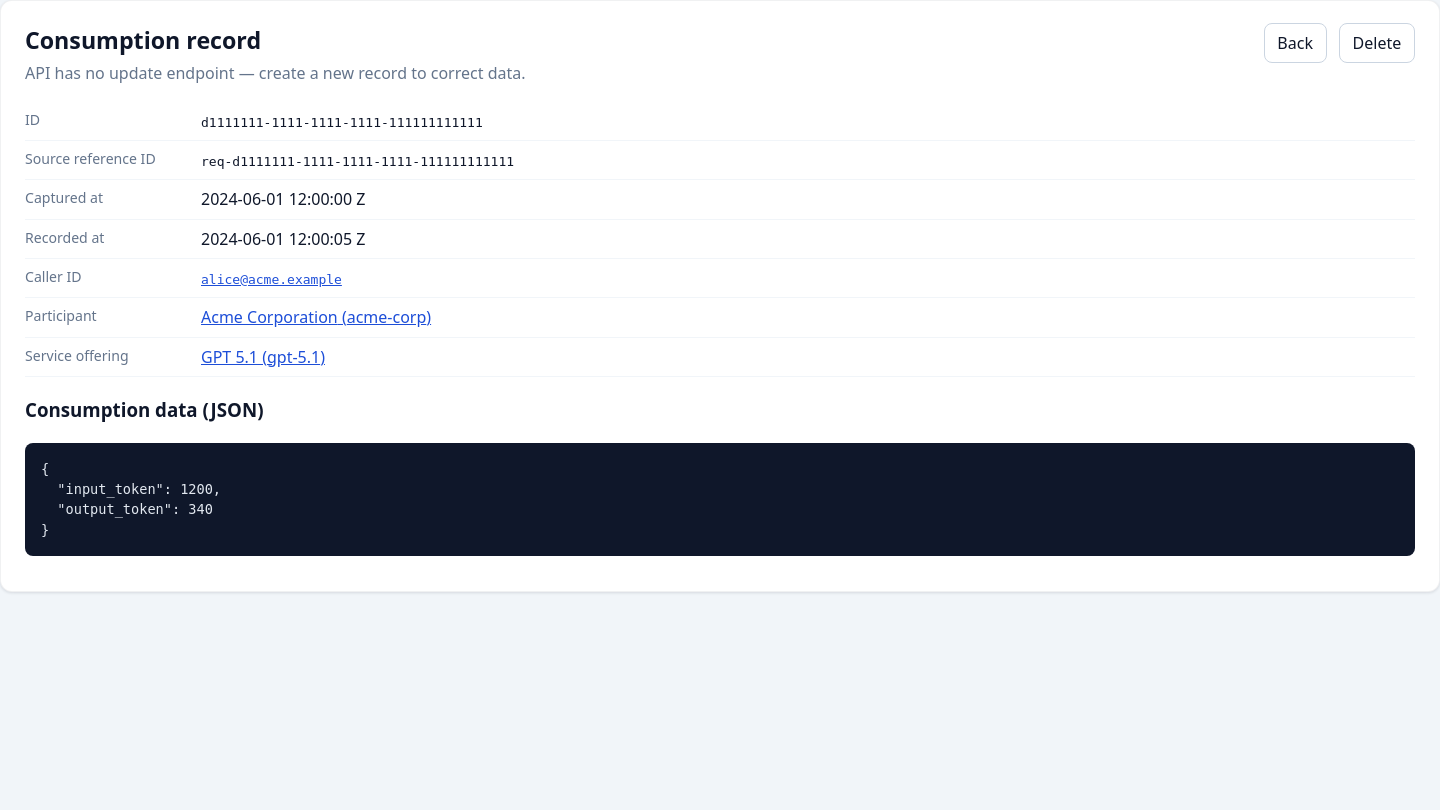
Consumption pages › shows detail and list delete errors
Expected: the text "{ \"input_token\": 1200, \"output_token\": 340 }" is shown, x1=25 y1=442 x2=1415 y2=556
Click the button "Delete": coordinates (1377, 43) x1=1339 y1=23 x2=1415 y2=63
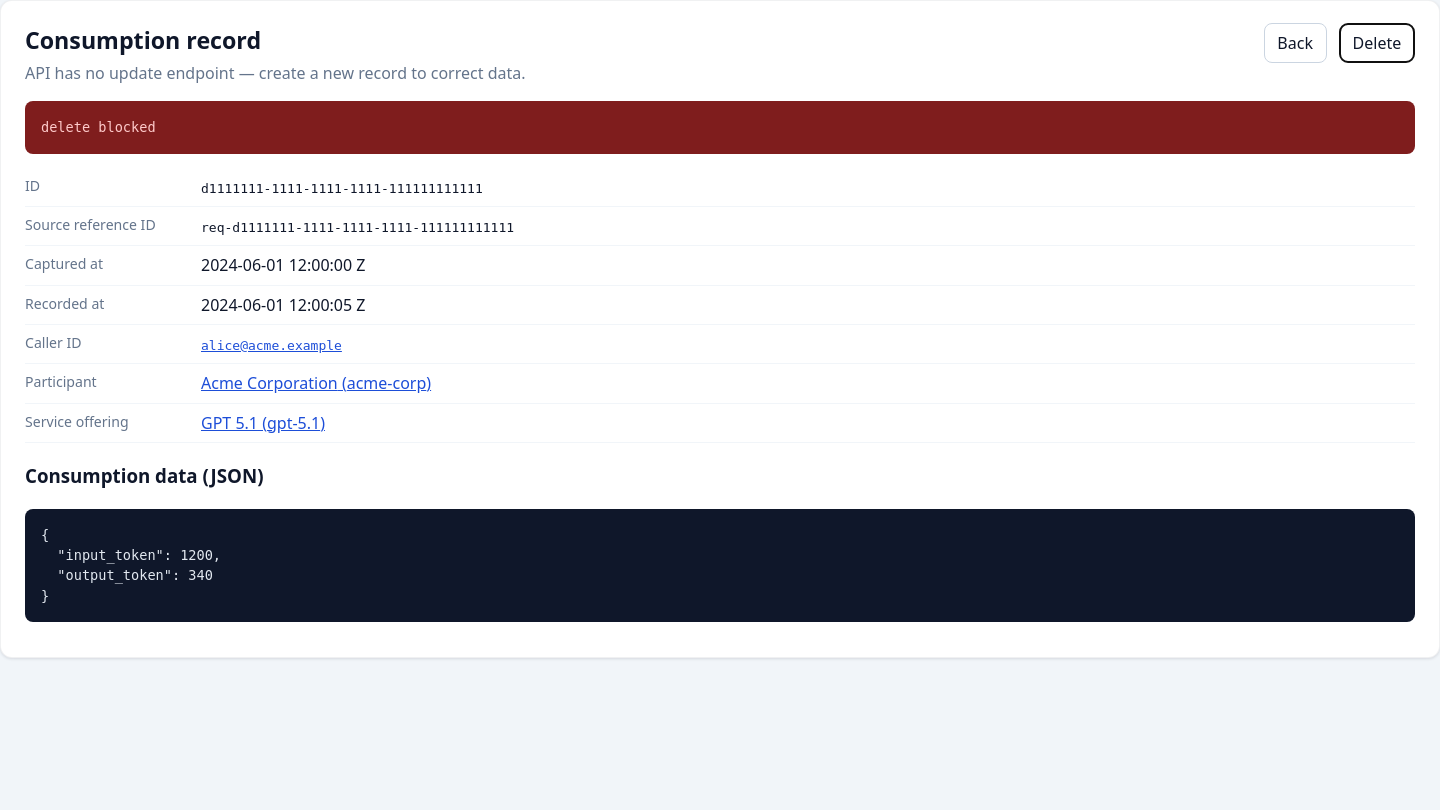
Expected: the text "delete blocked" is shown, x1=25 y1=101 x2=1415 y2=154
